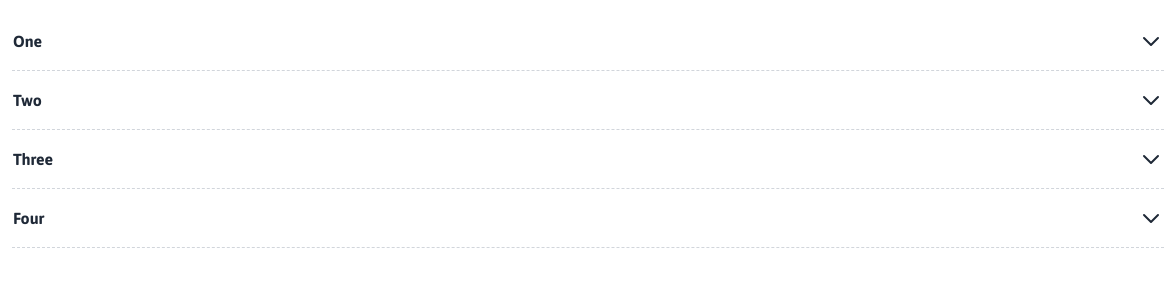
Test case: Accordion component › should open an item if clicked
Check: the text "Content-1" is not shown
Check: the text "Content-2" is not shown
Click the button "One": {"x": 28, "y": 41} [12, 12, 1164, 70]
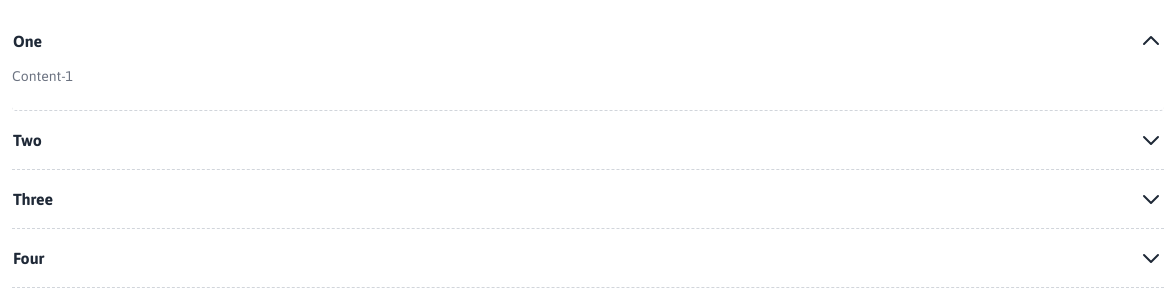
Check: the text "Content-2" is not shown
Check: the text "Content-1" is shown, box [12, 66, 1164, 111]
Click the button "Two": {"x": 27, "y": 140} [12, 111, 1164, 169]
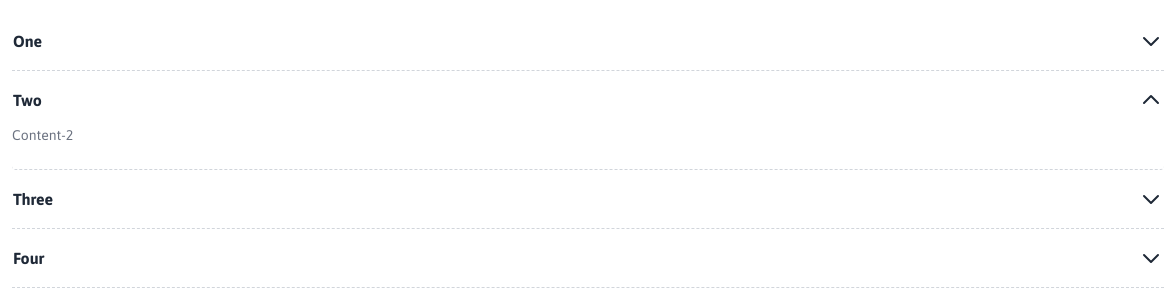
Check: the text "Content-1" is gone
Check: the text "Content-2" is shown, box [12, 125, 1164, 170]
